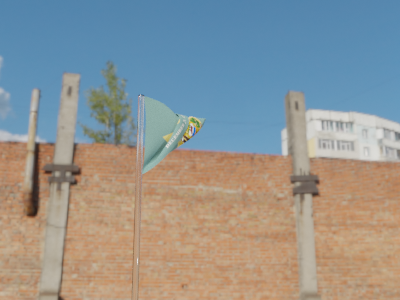Delaware flag: (139, 95, 207, 179)
